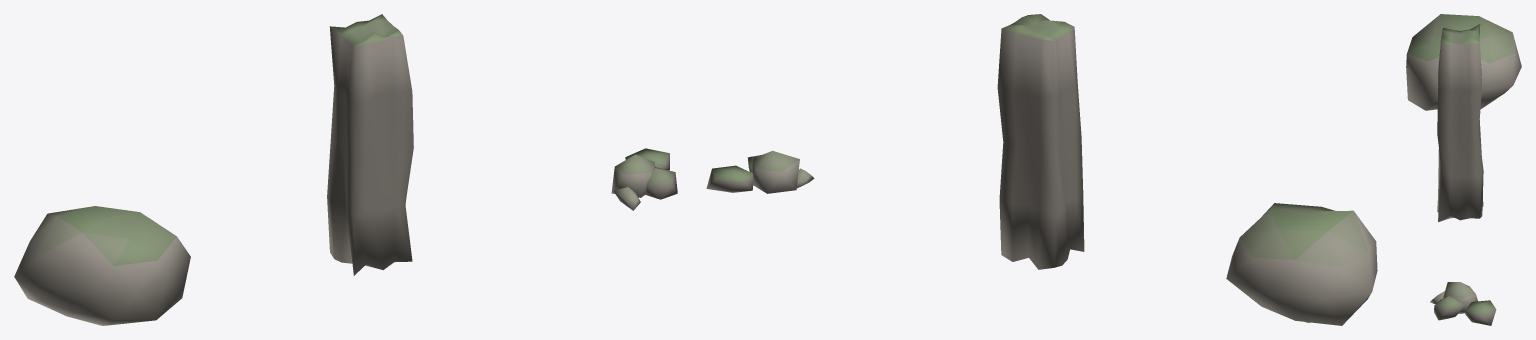
The model's file is rocks.glb.
3 renders of one model, left to right at view 1: azimuth 30°, elevation 25°; view 2: azimuth 150°, elevation 25°; view 3: azimuth 270°, elevation 25°, orthographic. The views are drawn at different scales.
Visible parts, largest first — view 1: Rock_StandingStone, Rock_Boulder, Rock_Cluster; view 2: Rock_StandingStone, Rock_Boulder, Rock_Cluster; view 3: Rock_StandingStone, Rock_Boulder, Rock_Cluster.
Part boxes in pixels (left/top/right/bottom): Rock_StandingStone: left=327, top=14, right=413, bottom=275; Rock_Boulder: left=14, top=206, right=190, bottom=325; Rock_Cluster: left=611, top=148, right=677, bottom=210; Rock_StandingStone: left=997, top=14, right=1084, bottom=269; Rock_Boulder: left=1226, top=203, right=1377, bottom=325; Rock_Cluster: left=706, top=150, right=814, bottom=193; Rock_StandingStone: left=1437, top=24, right=1483, bottom=221; Rock_Boulder: left=1406, top=14, right=1521, bottom=110; Rock_Cluster: left=1430, top=282, right=1496, bottom=325.
Size of the model in its own units: 7.39 by 2.5 by 1.45.
